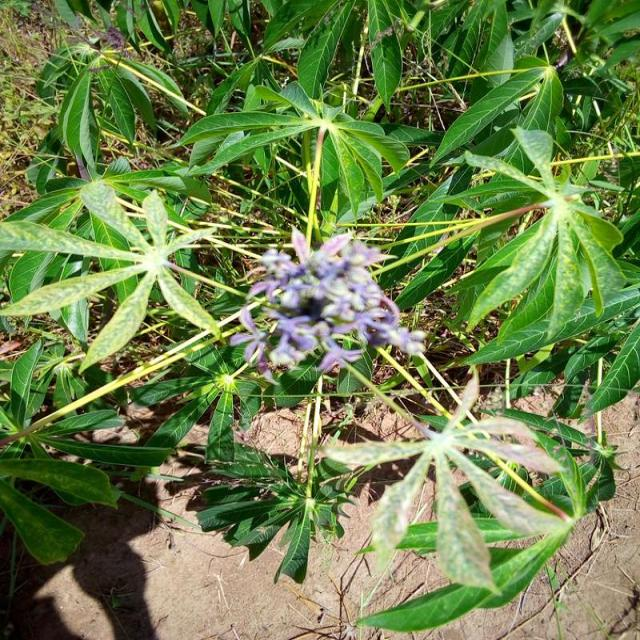cassava leaf: (1, 2, 637, 633), (450, 125, 626, 366)
